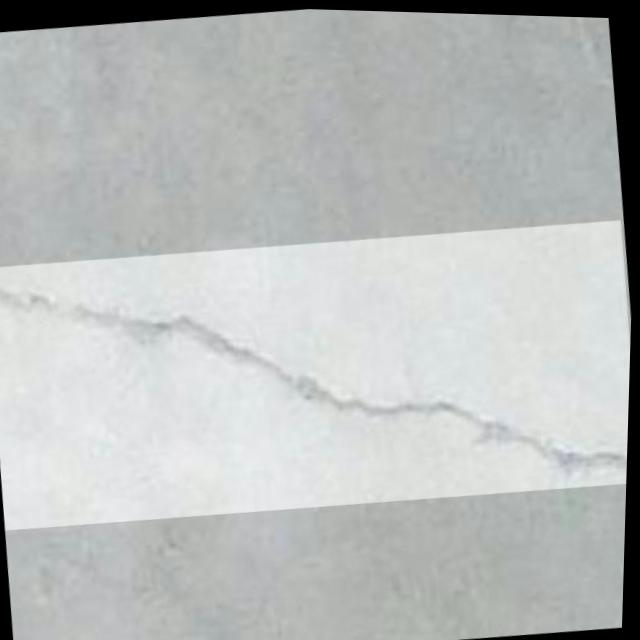Crack: (0, 203, 635, 545)
